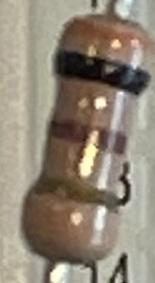Black: (50, 44, 151, 102)
Orange: (58, 14, 154, 64)
Red: (44, 117, 126, 161)
Side-Gold: (28, 170, 120, 216)
